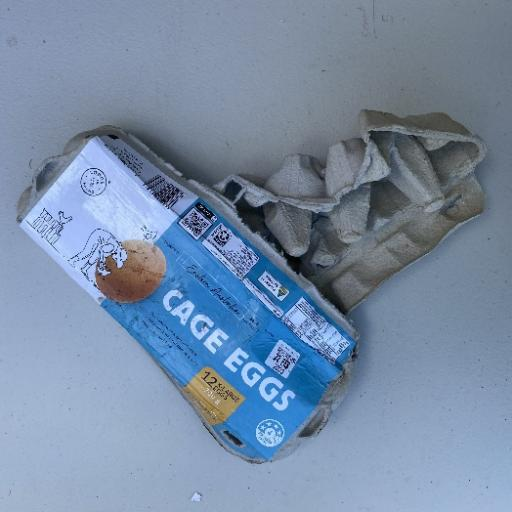Cardboard: (16, 130, 362, 464)
